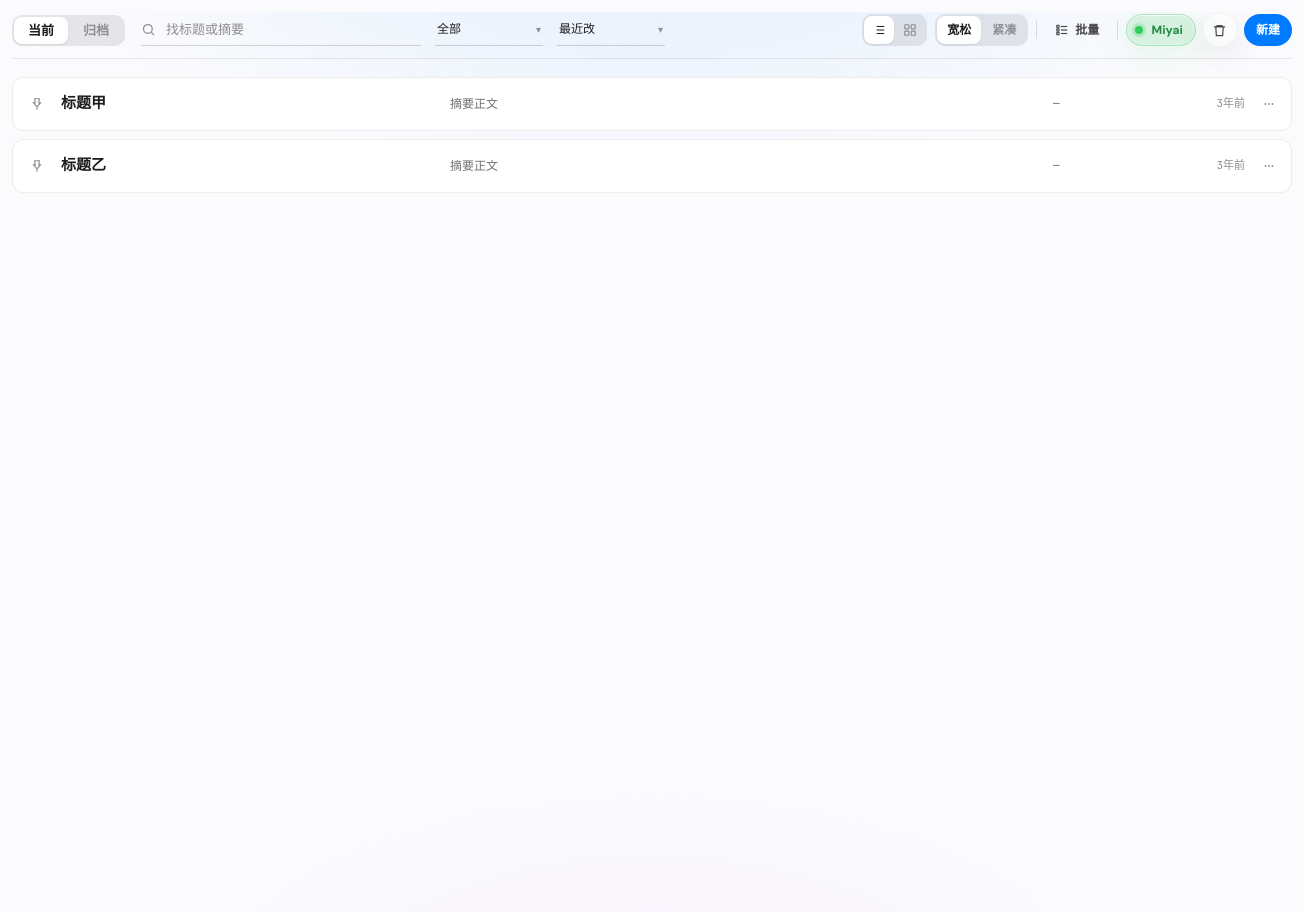
Scenario: 笔记首页批量选择 › 点任意一篇立刻出现已选信息与操作
Click the button with test id "notes-select-btn". click: (1077, 30)
box: [1045,14,1109,46]
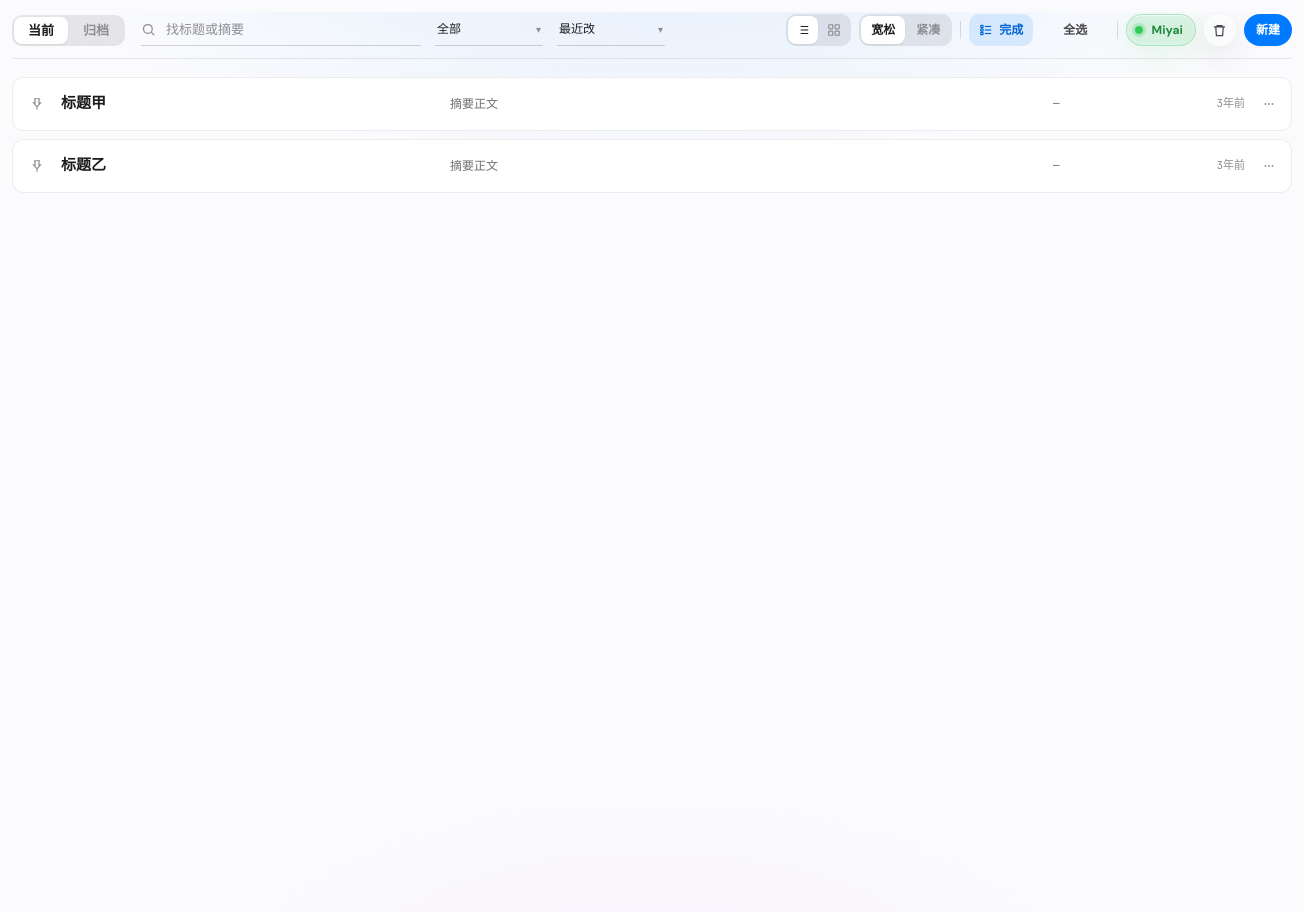
Click the 1st button with test id "note-item". click: (84, 103)
box: [12,77,1292,131]
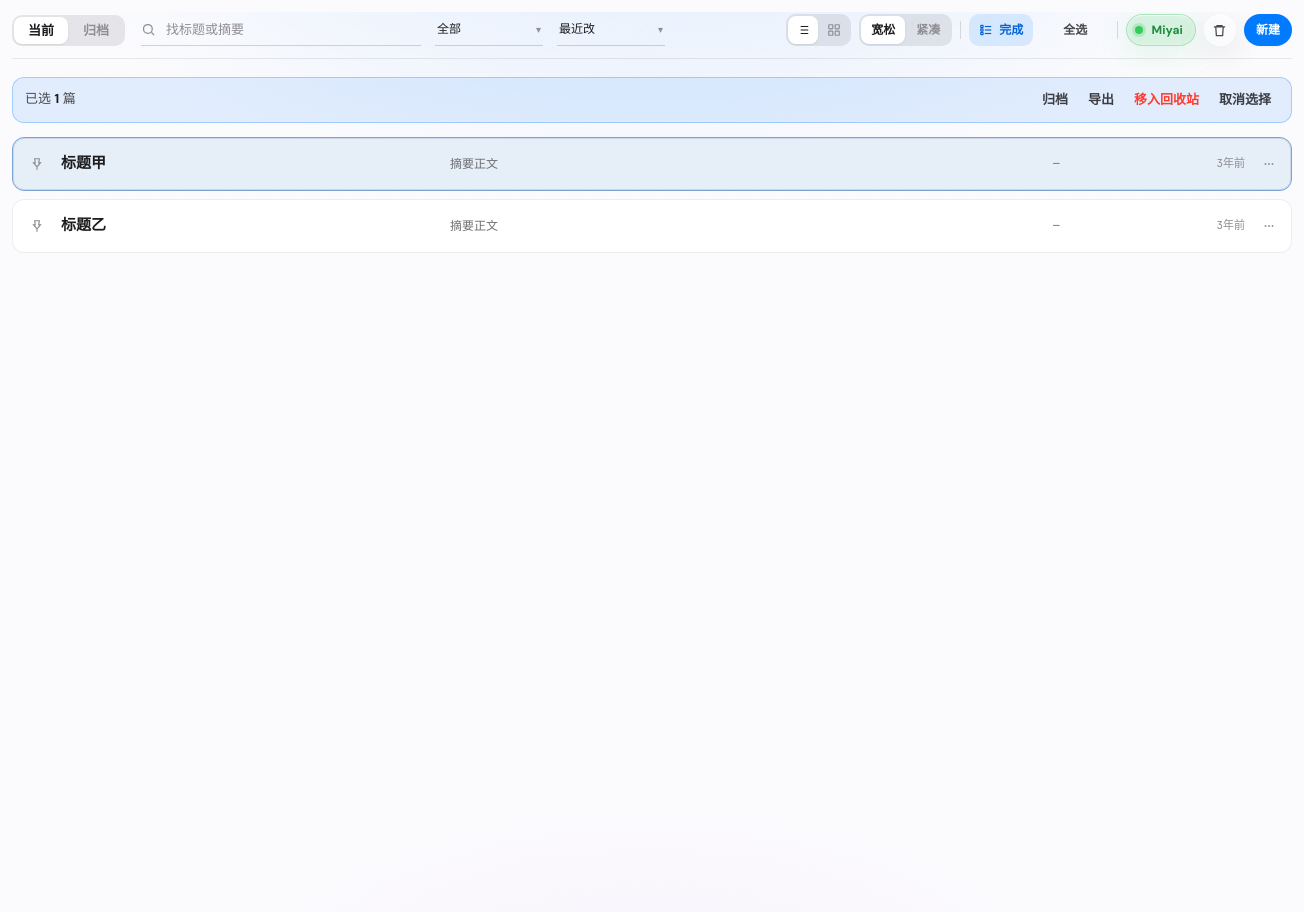
Now the element with test id "notes-bulk-bar" shows "已选 1 篇", box [12,77,1292,123]
Now the button with test id "notes-bulk-archive" is shown, box [1034,86,1076,114]
Now the button with test id "notes-bulk-export" is shown, box [1080,86,1122,114]
